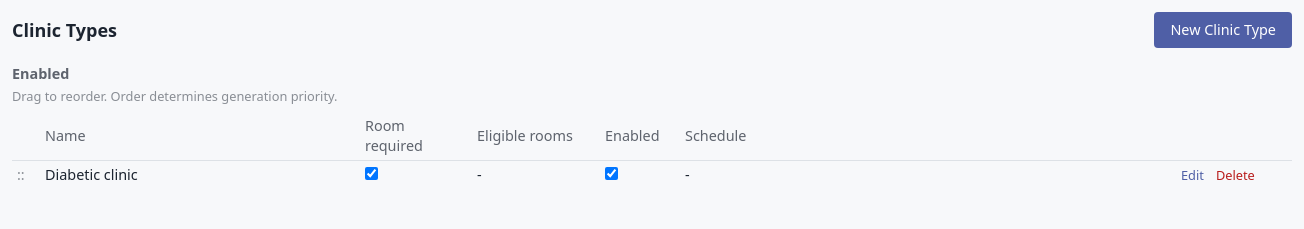
Scenario: ClinicTypesPage › a patch failure surfaces an error message
The image size is (1304, 229).
Expected: the text "Diabetic clinic" is shown, [44,160,364,189]
Click the checkbox named "Enabled for Diabetic clinic" at point(612, 174), box [605,167,618,180]
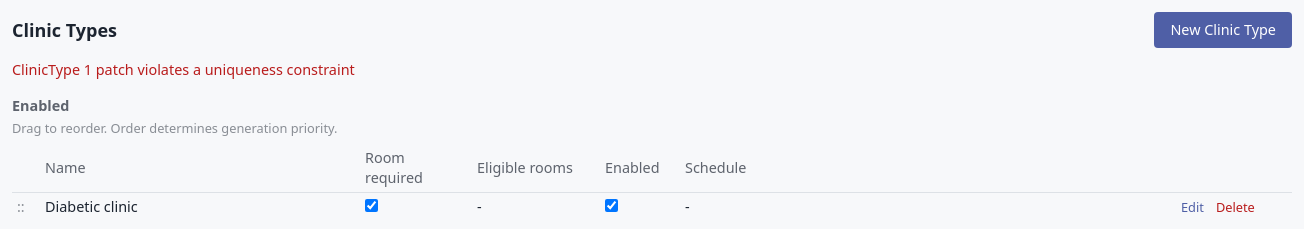
Result: the text "ClinicType 1 patch violates a uniqueness constraint" is shown at [12,60,355,79]
